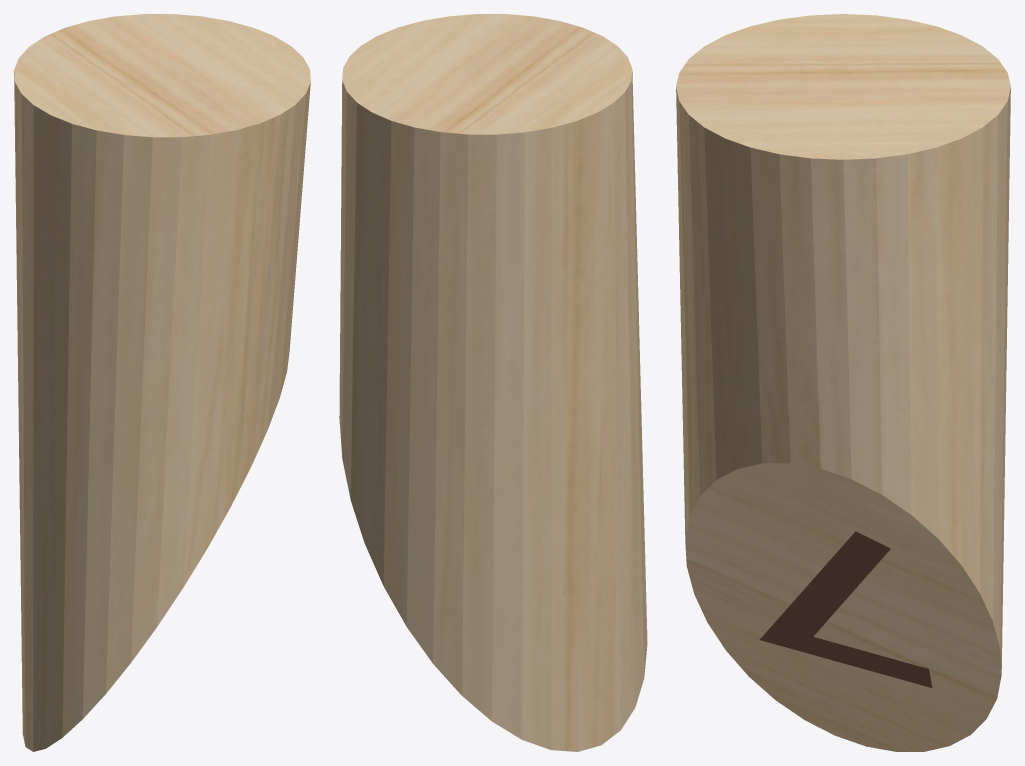
Rendered from pin7.glb.
3 renders of one model, left to right at view 1: azimuth 30°, elevation 25°; view 2: azimuth 150°, elevation 25°; view 3: azimuth 270°, elevation 25°, orthographic. The views are drawn at different scales.
Parts seen in each view (by area): view 1: 円柱.009; view 2: 円柱.009; view 3: 円柱.009.
Boxes of the visible parts, x1,y1,x2,y2 form: 円柱.009: (14,14,310,751); 円柱.009: (339,14,647,751); 円柱.009: (676,14,1010,751).
Size of the model in its own units: 1.18 by 2.79 by 1.16.
2 materials, 1 textured.
